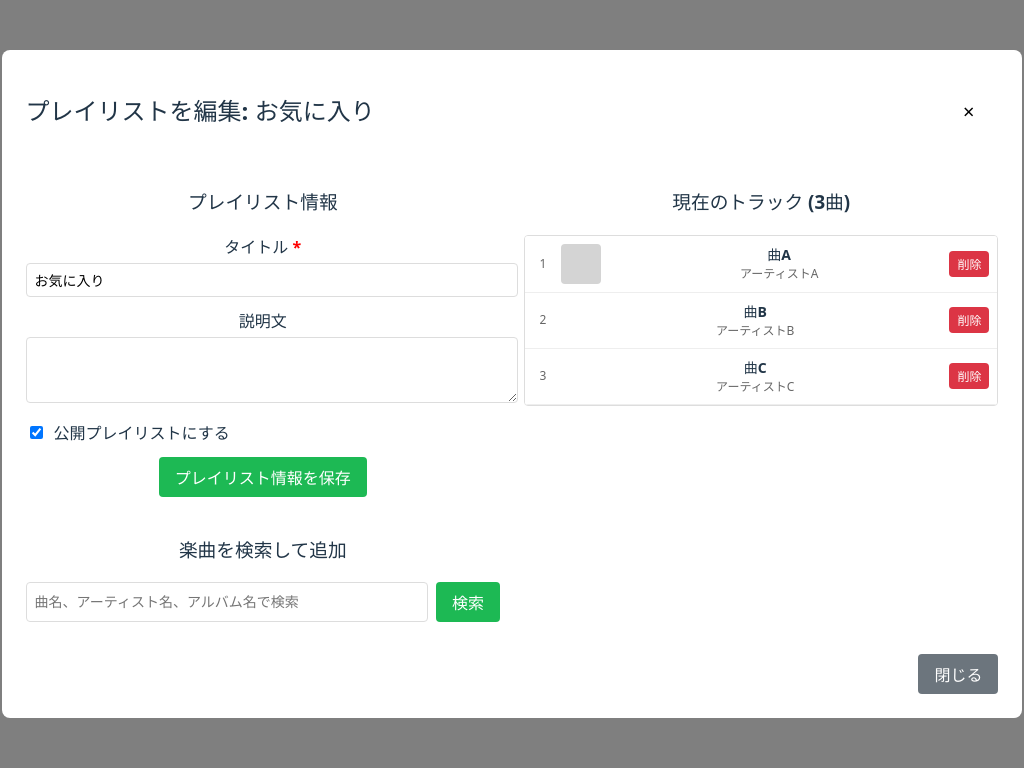
Test: EditPlaylistModal › 表示・読み込み › 「閉じる」ボタンで閉じると、検索語と検索結果をクリアする
This screenshot has width=1024, height=768.
Check: the heading "現在のトラック (3曲)" is shown, box [672,189,850,214]
Step 1. Type "追加したい曲" into the field with placeholder "曲名、アーティスト名、アルバム名で検索" → (227, 602), box [26,582,428,622]
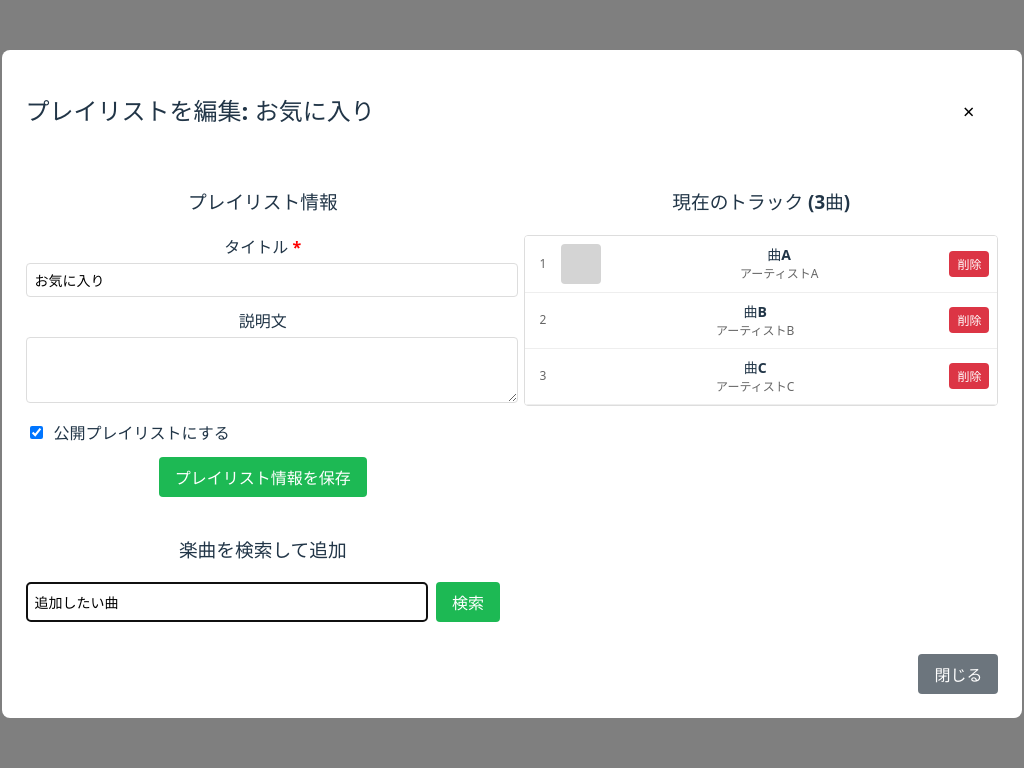
Step 2. Click the button "検索" → (468, 602), box [436,582,500,622]
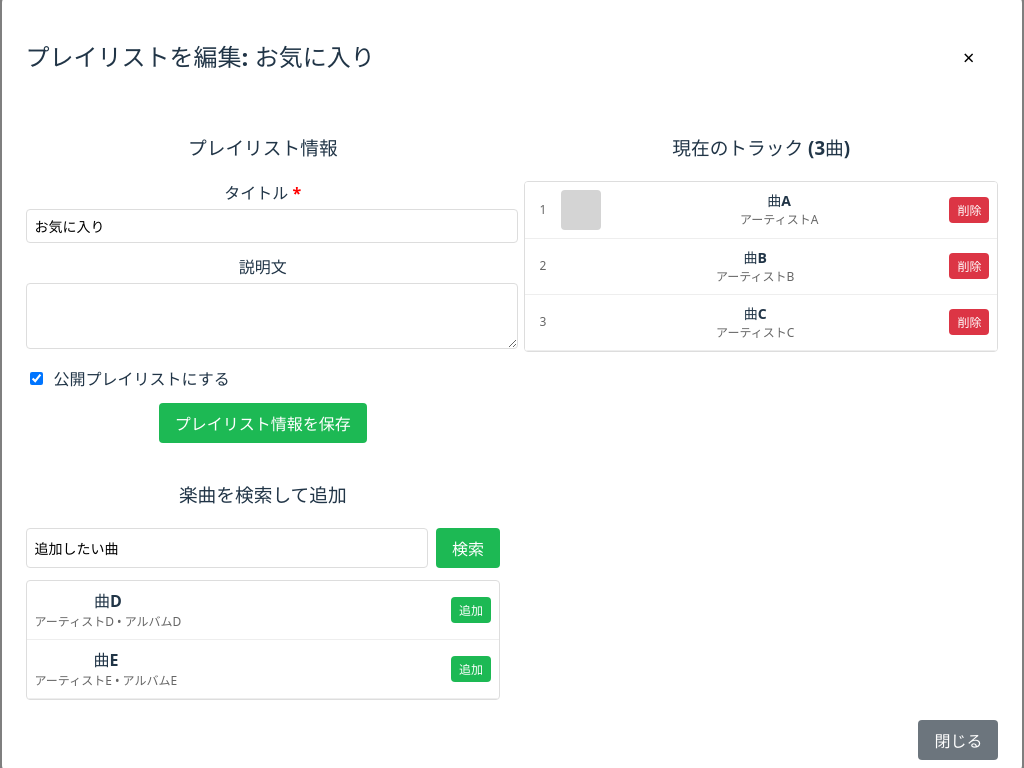
Check: the button "検索" is shown, box [436,528,500,568]
Step 3. Click the button "閉じる" → (958, 740), box [918,720,998,760]
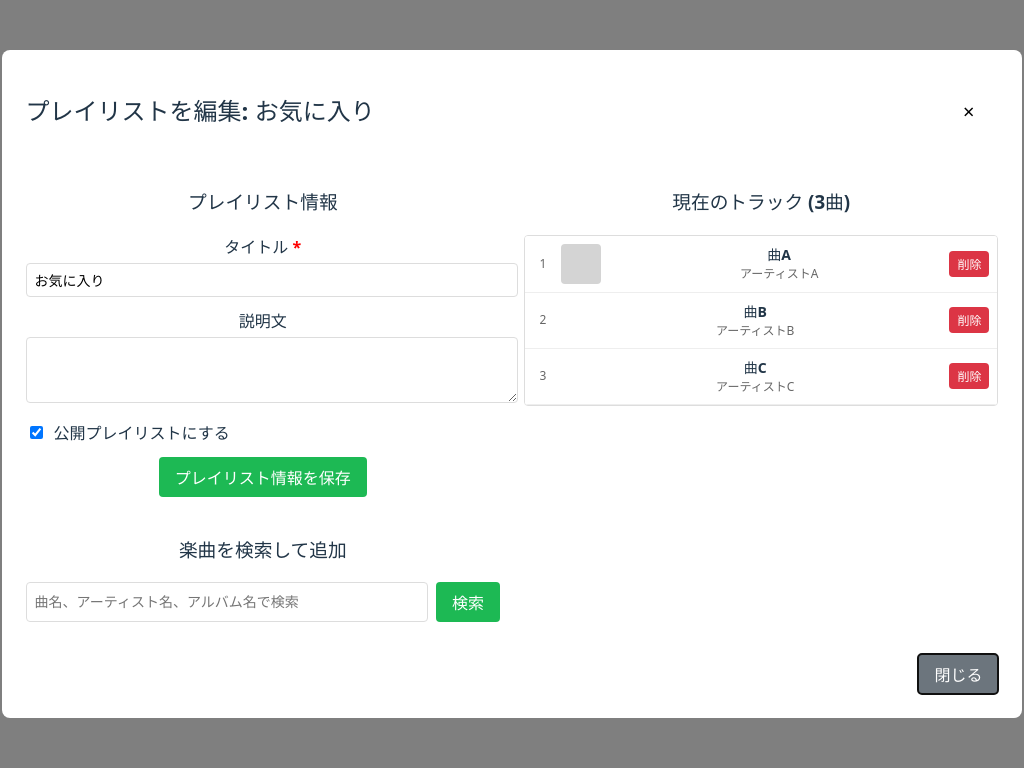
Check: the field with placeholder "曲名、アーティスト名、アルバム名で検索" is empty, box [26,582,428,622]
Check: the text "曲D" is gone
